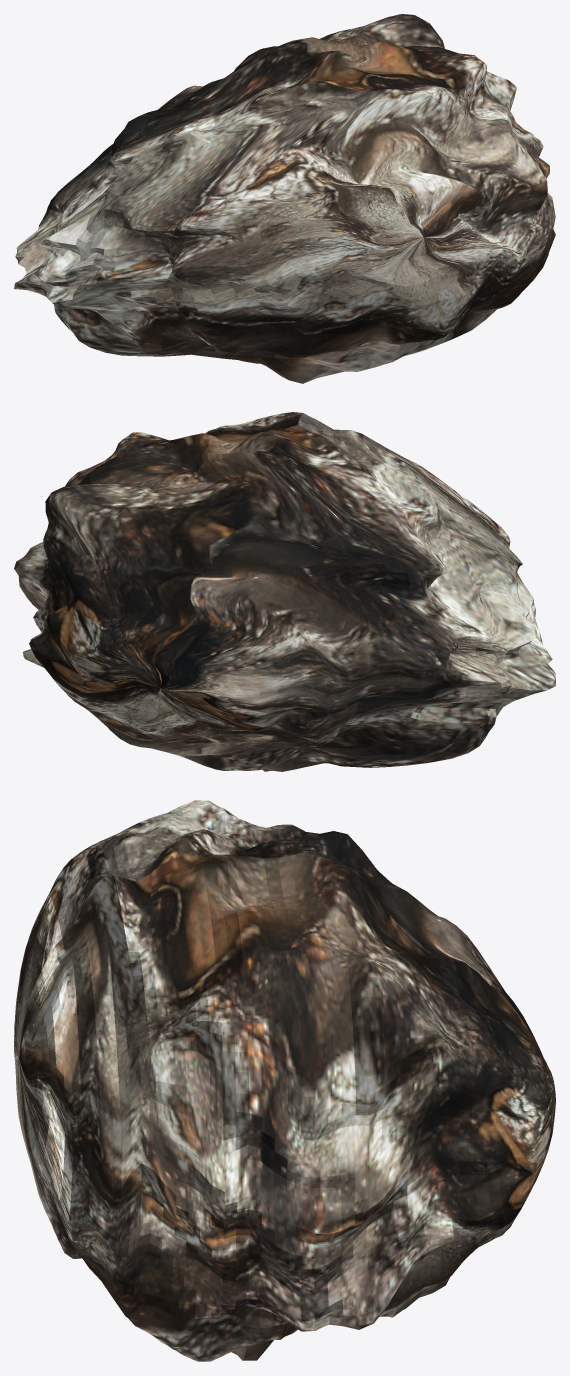
File: Ast.glb
3 renders of one model, top to bottom at view 1: azimuth 30°, elevation 25°; view 2: azimuth 150°, elevation 25°; view 3: azimuth 270°, elevation 25°, orthographic. The views are drawn at different scales.
Visible parts, largest first — view 1: asteroid OBJ; view 2: asteroid OBJ; view 3: asteroid OBJ.
Part boxes in pixels (left/top/right/bottom): asteroid OBJ: left=14, top=14, right=555, bottom=383; asteroid OBJ: left=14, top=412, right=555, bottom=771; asteroid OBJ: left=14, top=800, right=555, bottom=1361.
Size of the model in its own units: 3.91 by 2.32 by 2.47.
Materials: 1 (1 with a texture image).
